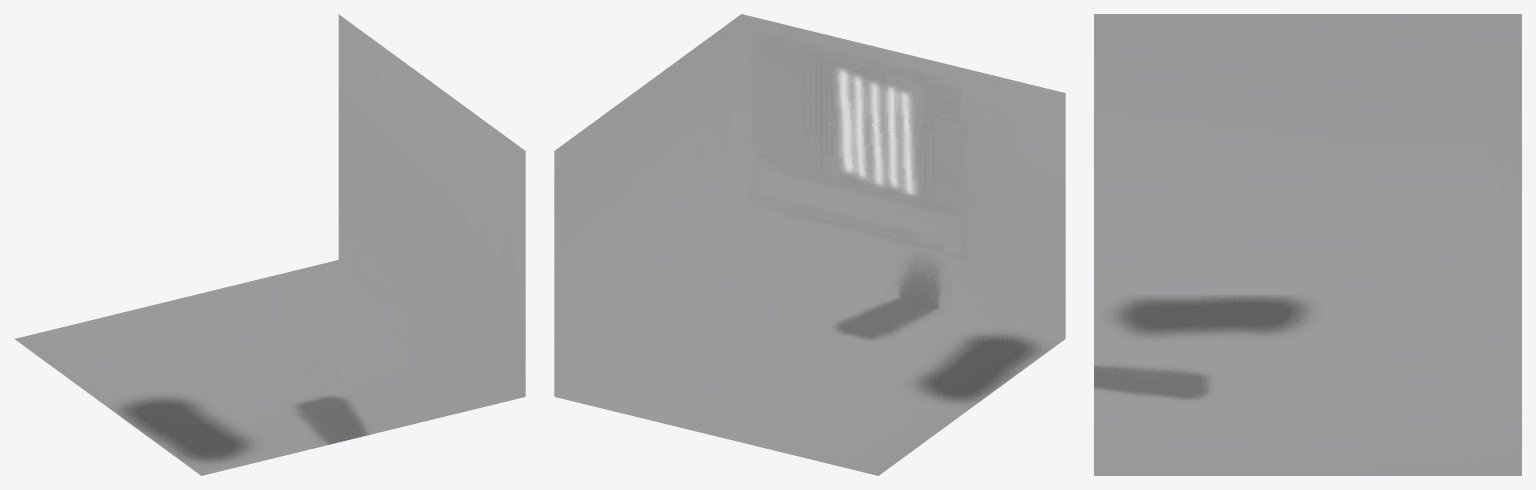
Rendered from CellShadow.glb.
3 views of the same model, side by side, from view 1: azimuth 30°, elevation 25°; view 2: azimuth 150°, elevation 25°; view 3: azimuth 270°, elevation 25° (orthographic). The views are drawn at different scales.
Parts seen in each view (by area): view 1: cell_shadow.png__; view 2: cell_shadow.png__; view 3: cell_shadow.png__.
Boxes of the visible parts, x1,y1,x2,y2 form: cell_shadow.png__: [15, 15, 525, 475]; cell_shadow.png__: [554, 14, 1065, 475]; cell_shadow.png__: [1094, 14, 1521, 475].
Size of the model in its own units: 1.97 by 1.43 by 1.97.
1 material, 1 textured.
